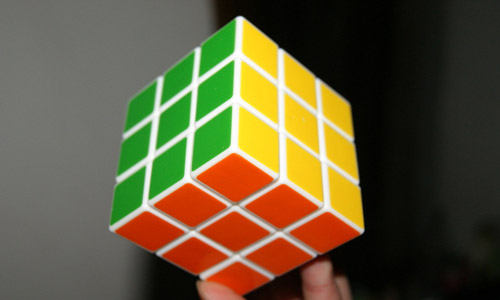cube: (105, 16, 368, 296)
